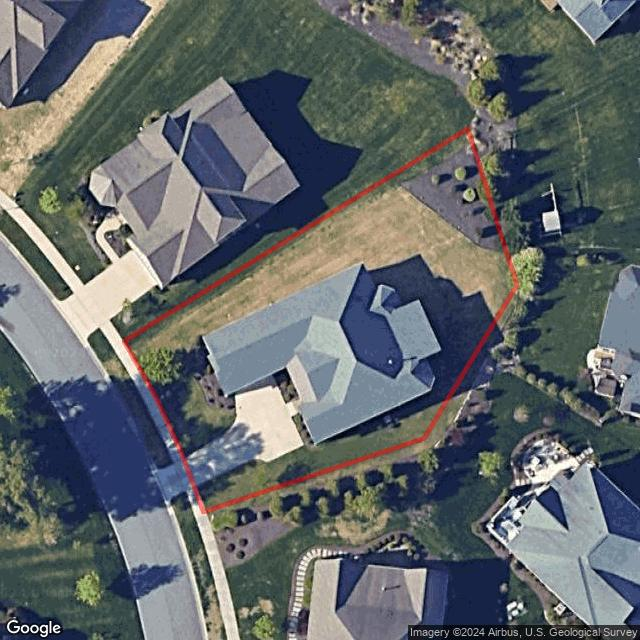Driveway: (183, 375, 305, 488)
Extra-Driveway: (151, 457, 194, 504)
Extra-Lawn: (205, 284, 524, 520), (99, 348, 174, 470), (170, 492, 193, 523)
Extra-Sidewalk: (112, 341, 182, 464), (186, 489, 206, 517)
House: (203, 262, 443, 445)
Lawn: (125, 128, 517, 512)
Other: (402, 147, 505, 254), (185, 343, 236, 414), (292, 414, 316, 453), (273, 367, 298, 404)
Sidewalk: (288, 400, 300, 417)
